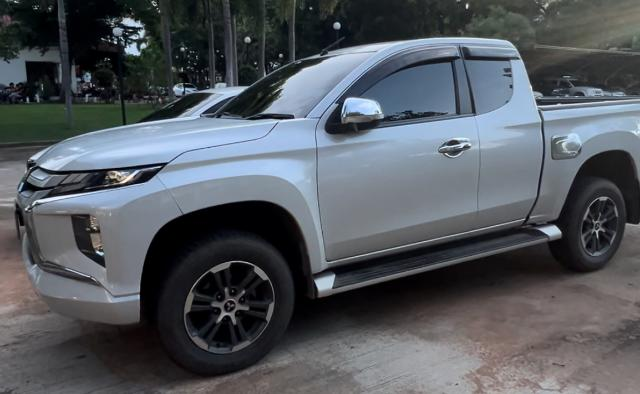pickup-truck: (14, 37, 640, 378)
